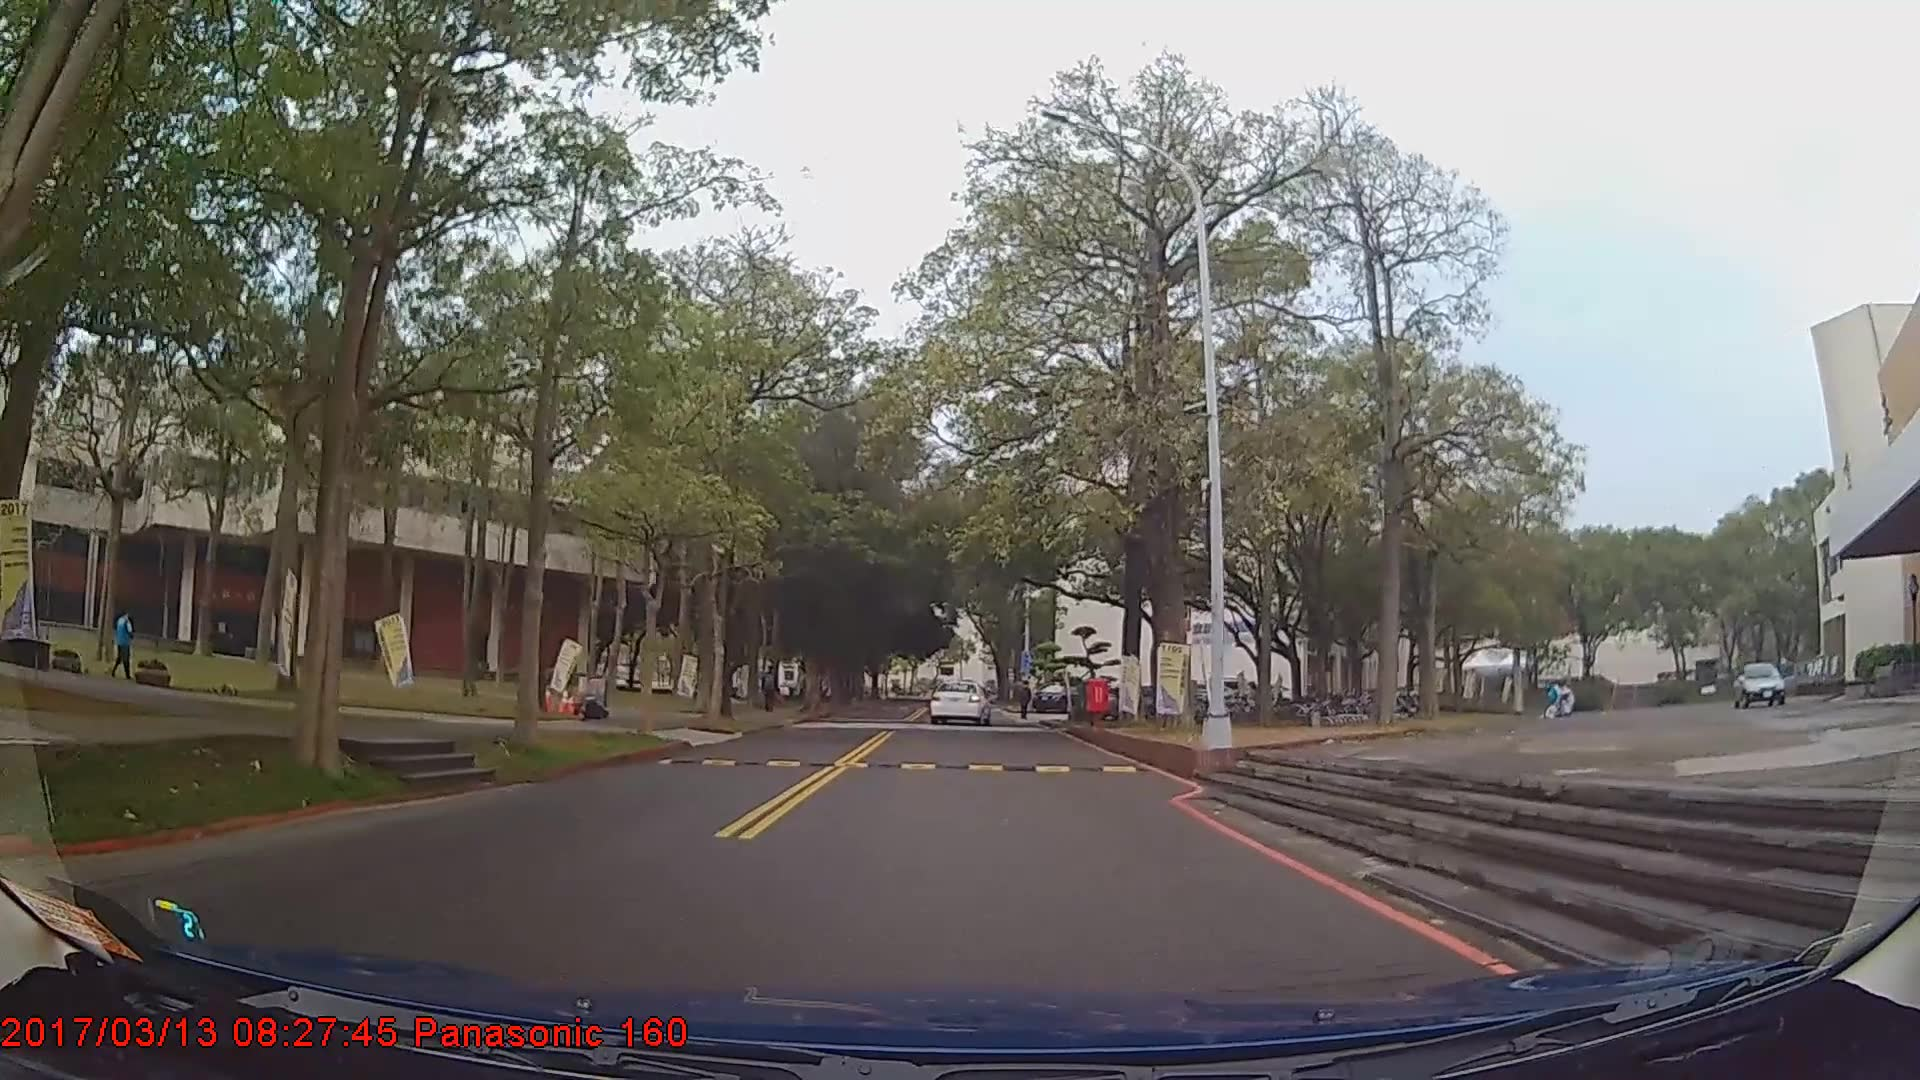pedestrian: (112, 605, 136, 682), (758, 664, 780, 712)
vehicle: (1730, 655, 1801, 706), (927, 678, 992, 726)
